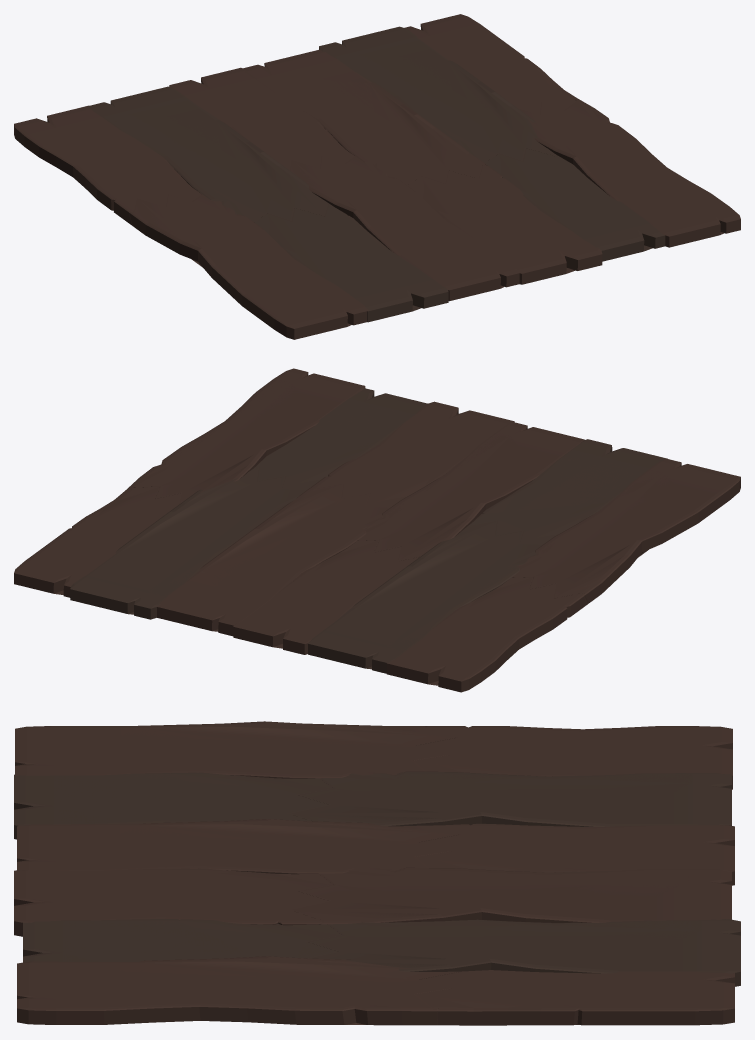
File: wood floor 2.fbx
3 renders of one model, top to bottom at view 1: azimuth 30°, elevation 25°; view 2: azimuth 150°, elevation 25°; view 3: azimuth 270°, elevation 25°, orthographic. The views are drawn at different scales.
Visible parts, largest first — view 1: Cube.005, Cube.008, Cube.002, Cube.010, Cube.009, Cube.006, Cube.014, Cube.011, Cube.013, Cube.001, Cube.012, Cube.015; view 2: Cube.005, Cube.008, Cube.002, Cube.010, Cube.009, Cube.006, Cube.001, Cube.014, Cube.013, Cube.012, Cube.011, Cube.015; view 3: Cube.006, Cube.008, Cube.002, Cube.005, Cube.010, Cube.009, Cube.014, Cube.011, Cube.015, Cube.001, Cube.013, Cube.012.
Boxes of the visible parts, x1,y1,x2,y2 form: Cube.005: [14, 105, 368, 339]; Cube.008: [243, 49, 602, 284]; Cube.002: [88, 86, 448, 322]; Cube.010: [319, 26, 665, 261]; Cube.009: [169, 67, 519, 301]; Cube.006: [404, 14, 740, 247]; Cube.014: [186, 79, 504, 288]; Cube.011: [29, 117, 351, 326]; Cube.013: [257, 75, 586, 273]; Cube.001: [104, 113, 431, 311]; Cube.012: [420, 24, 724, 234]; Cube.015: [335, 53, 652, 251]; Cube.005: [386, 458, 740, 692]; Cube.008: [157, 401, 514, 636]; Cube.002: [308, 439, 667, 673]; Cube.010: [70, 388, 427, 619]; Cube.009: [233, 422, 584, 654]; Cube.006: [14, 368, 365, 597]; Cube.001: [357, 450, 648, 669]; Cube.014: [251, 432, 536, 648]; Cube.013: [203, 413, 495, 631]; Cube.012: [31, 380, 316, 594]; Cube.011: [406, 469, 692, 685]; Cube.015: [118, 398, 413, 614]; Cube.006: [17, 956, 734, 1025]; Cube.008: [14, 867, 731, 936]; Cube.002: [14, 771, 731, 839]; Cube.005: [15, 721, 732, 789]; Cube.010: [23, 919, 740, 986]; Cube.009: [17, 819, 734, 885]; Cube.014: [56, 820, 695, 870]; Cube.011: [54, 723, 693, 774]; Cube.015: [62, 920, 701, 970]; Cube.001: [53, 773, 692, 823]; Cube.013: [53, 870, 692, 920]; Cube.012: [56, 958, 695, 1025].
Bounding box in the file's own units: 905 × 38.49 × 974.
